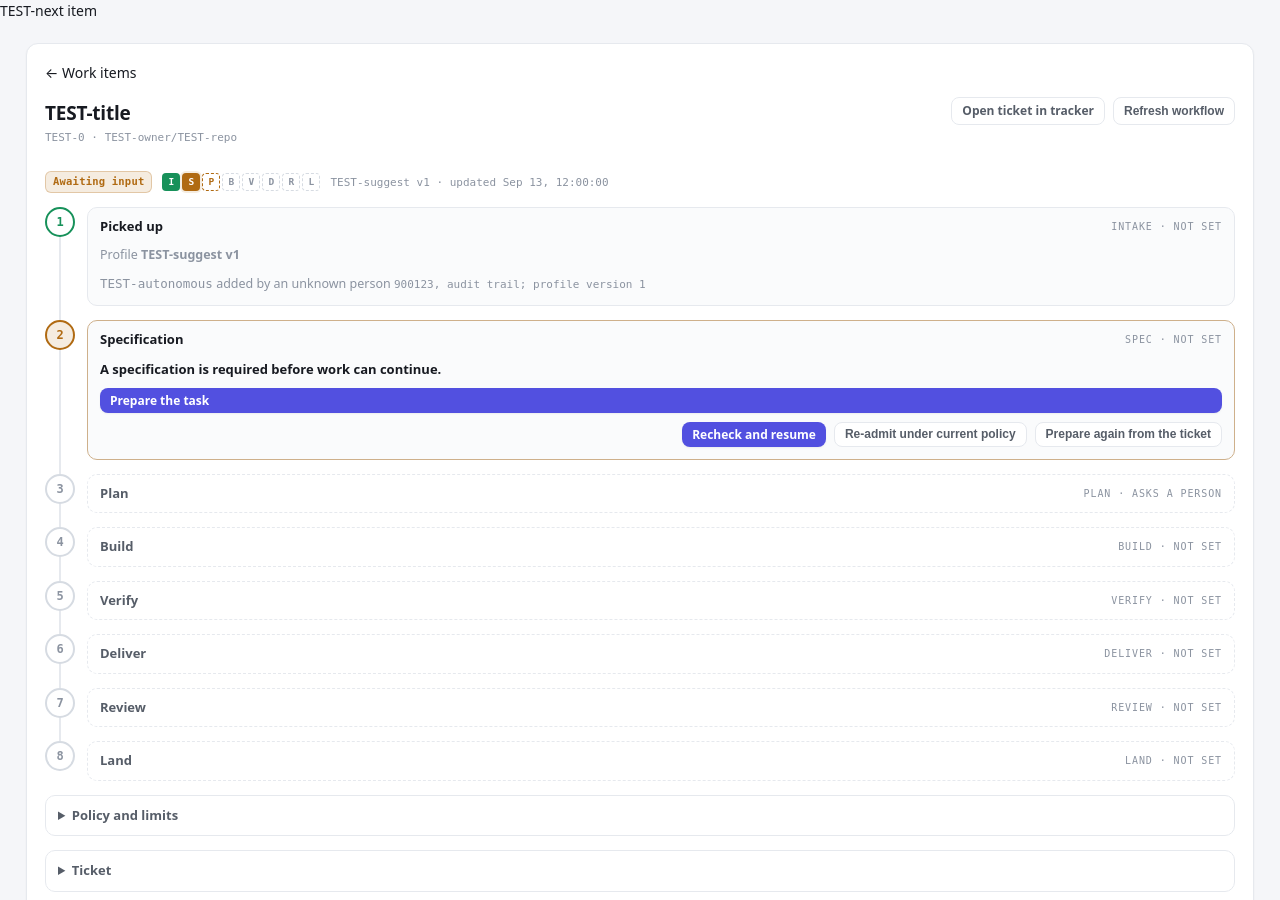
Scenario: ignores a recheck that answers after a panel was opened
The width and height of the screenshot is (1280, 900).
Click the button "Recheck and resume" at (754, 434), box [682,422,826,447]
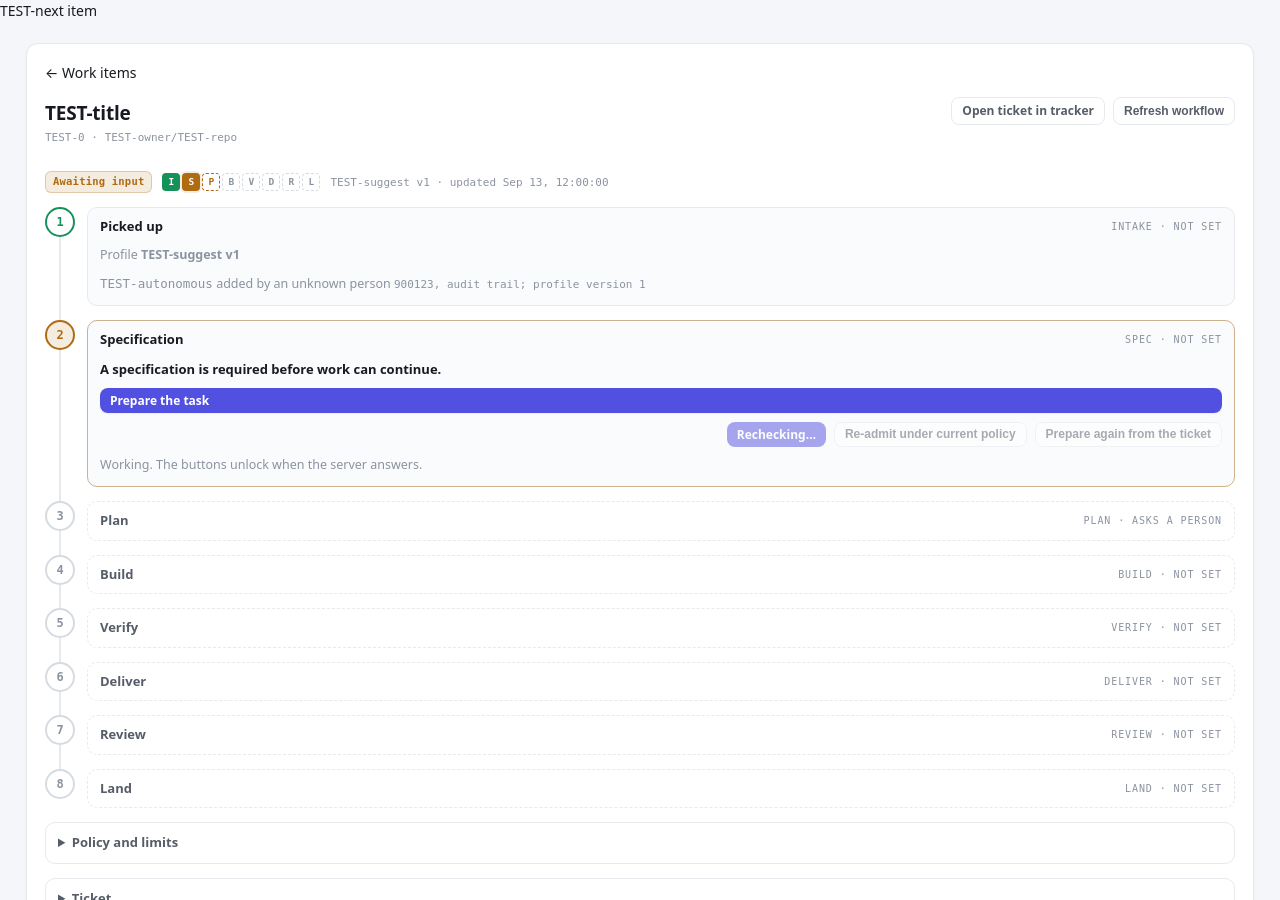
Click the button "Prepare the task" at (160, 400), box [100,388,1222,413]
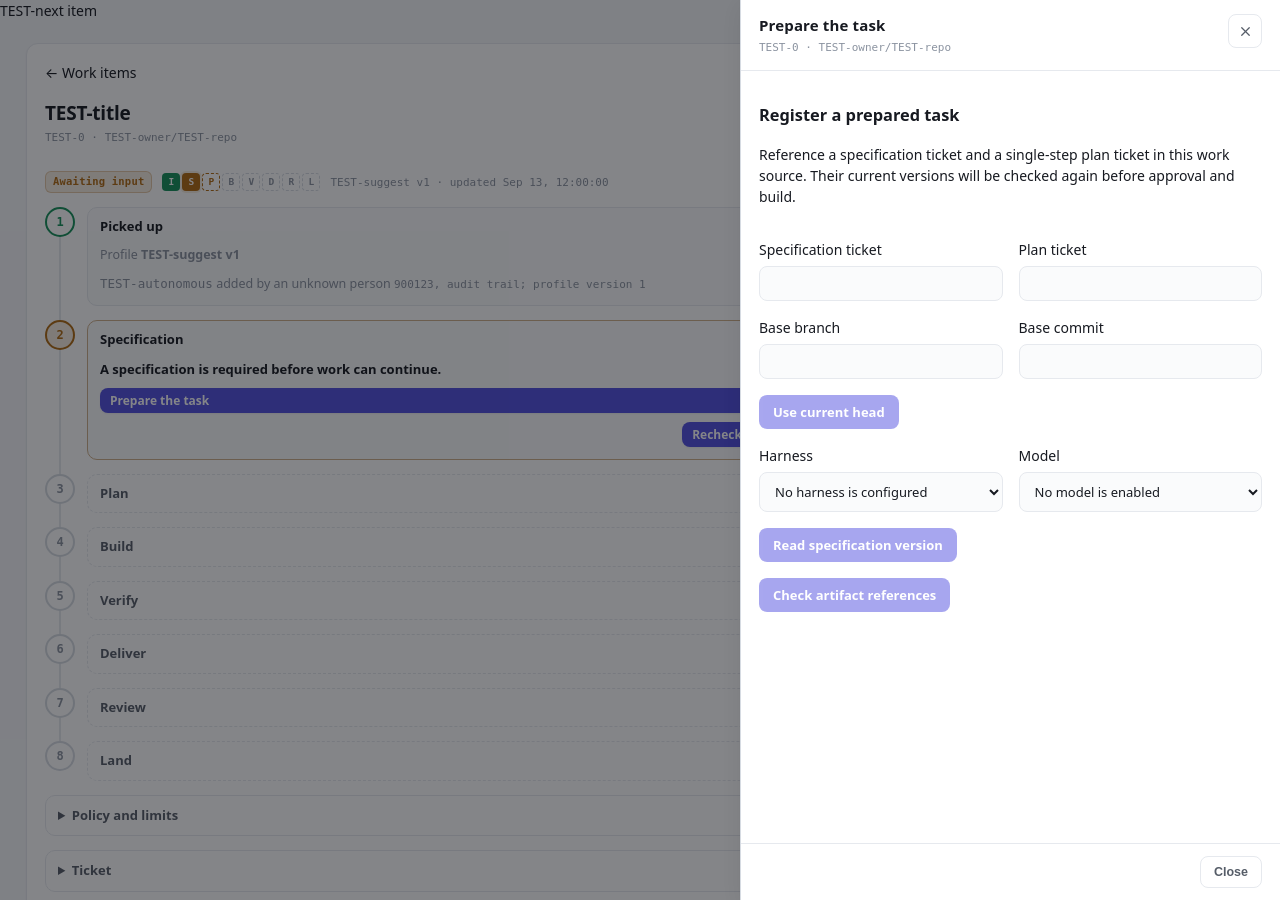
Expected: the dialog "Prepare the task" is shown, [740,0,1279,899]
